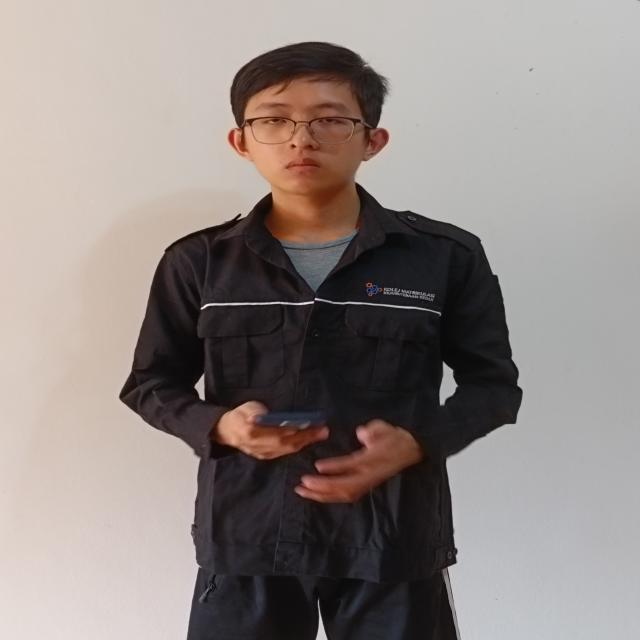person_with_labcoat: (120, 43, 522, 640)
